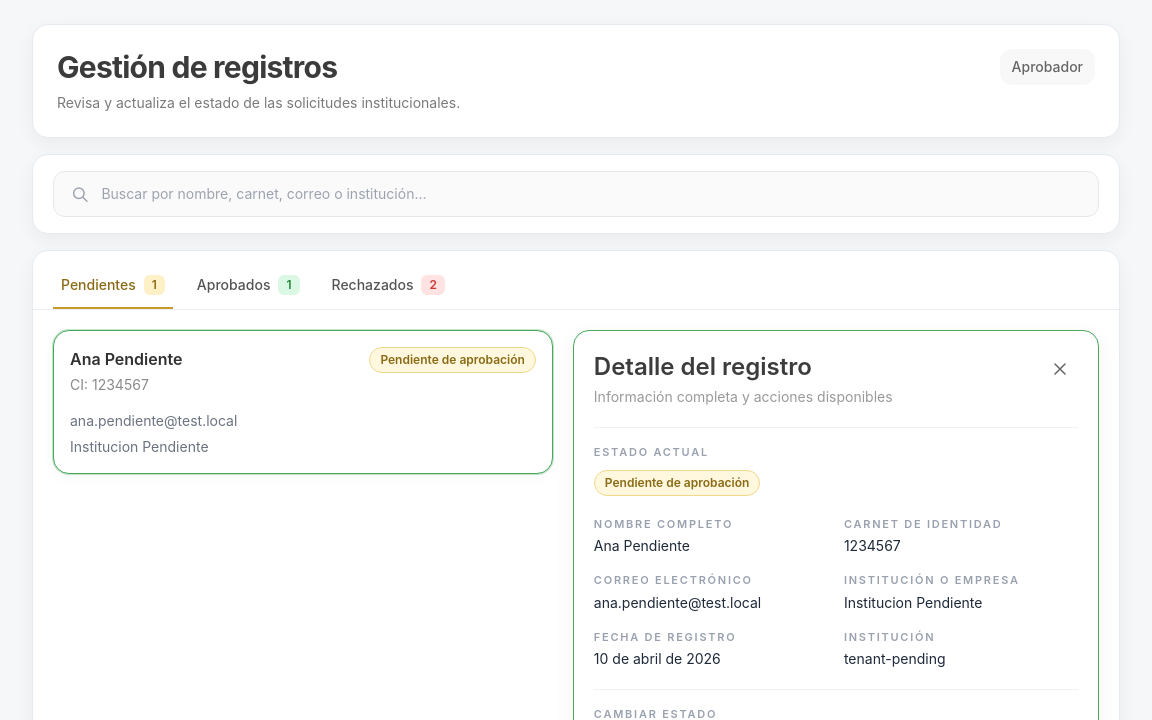
it: MX-02 | Gestión de instituciones, administradores y wallets | Frontend Admin | Aprobaciones › [MX-02][D-REQ-009][INTEGRACION] el administrador principal rechaza una solicitud desde su revisión
Click the button "Ana Pendiente": click(126, 359) 53,330 -> 553,474
(page scrolled)
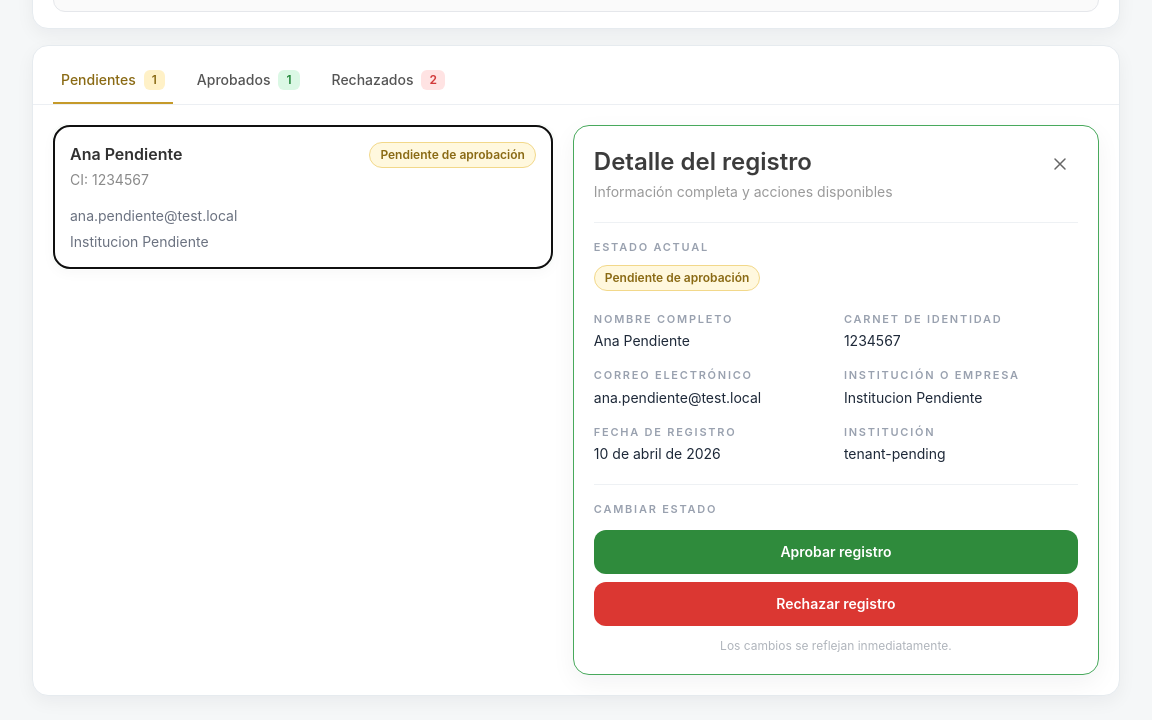
Click the button "Rechazar registro": click(836, 604) 594,582 -> 1078,626
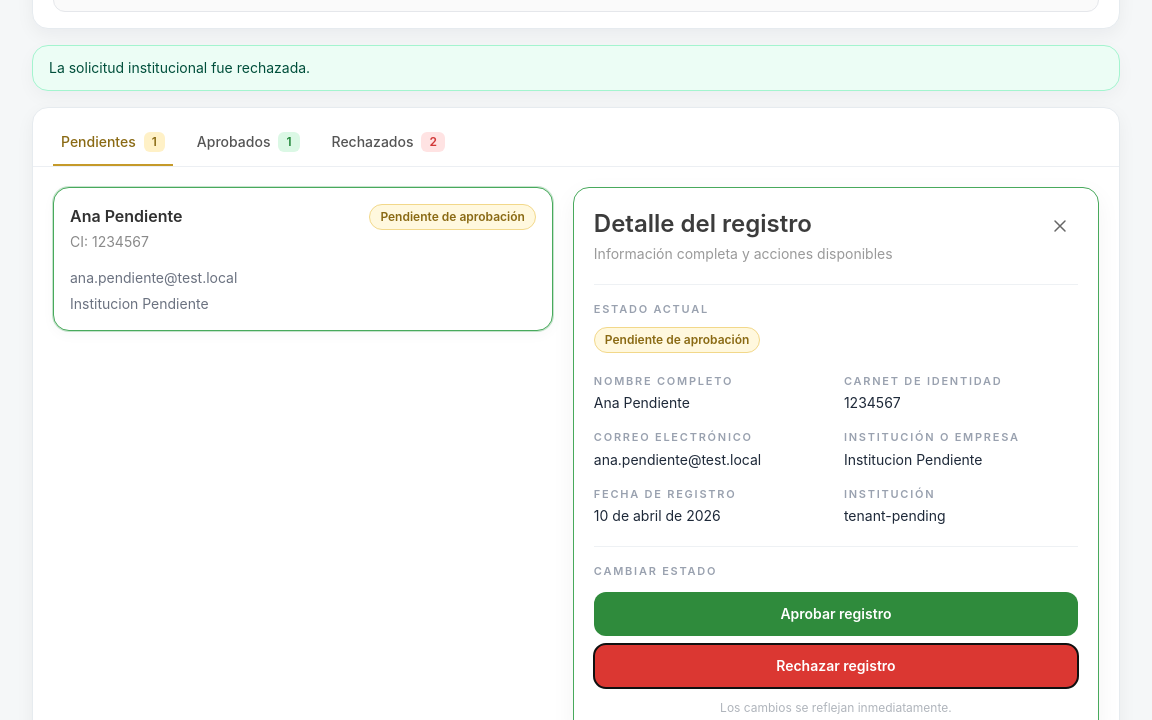
Expected: the text "La solicitud institucional fue rechazada." is shown, 32,45 -> 1120,91
